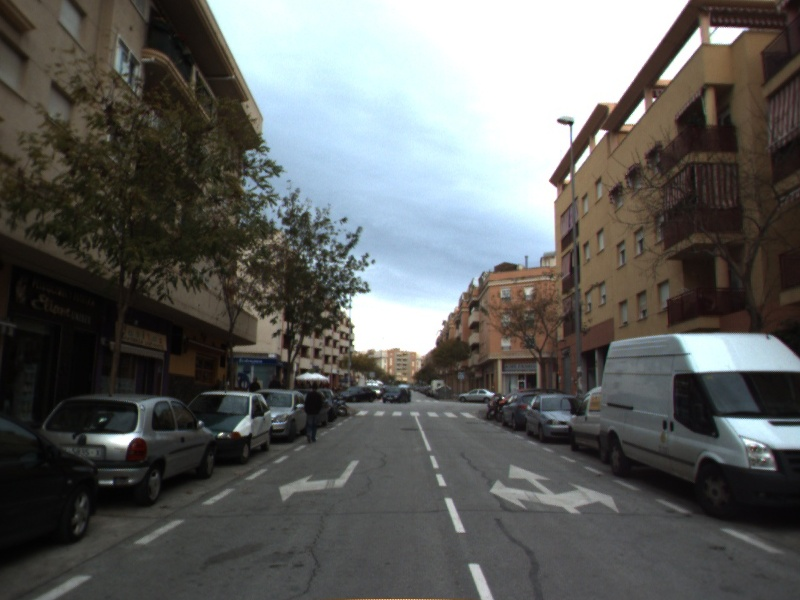STRAIGHT_LEFT_RIGHT: (488, 462, 622, 515)
